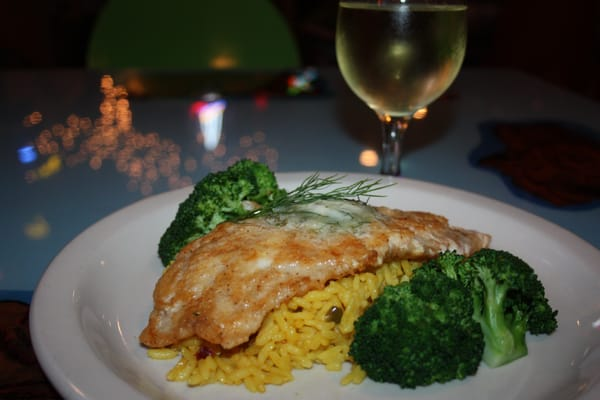curry: (349, 247, 560, 389), (156, 158, 292, 266)
soup: (136, 193, 490, 389)
